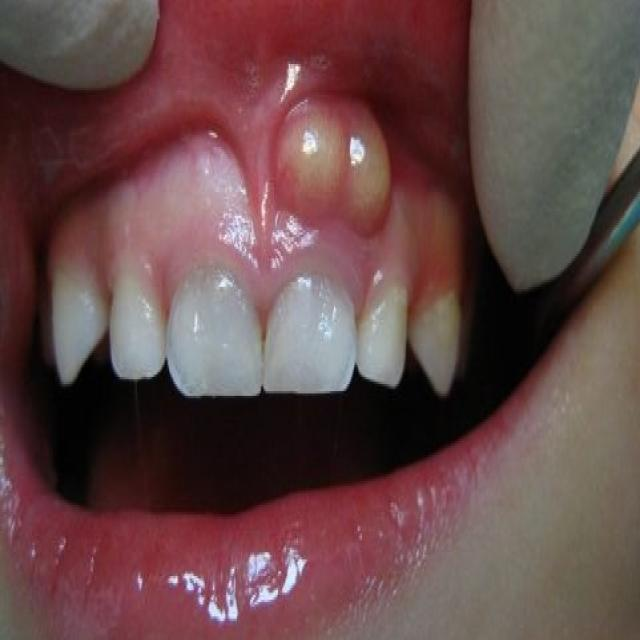abscess: (244, 79, 425, 258)
